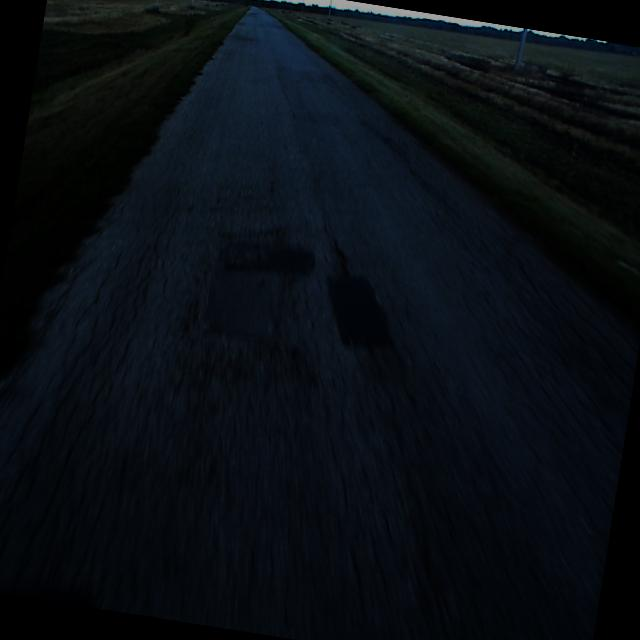road: (0, 7, 640, 640)
